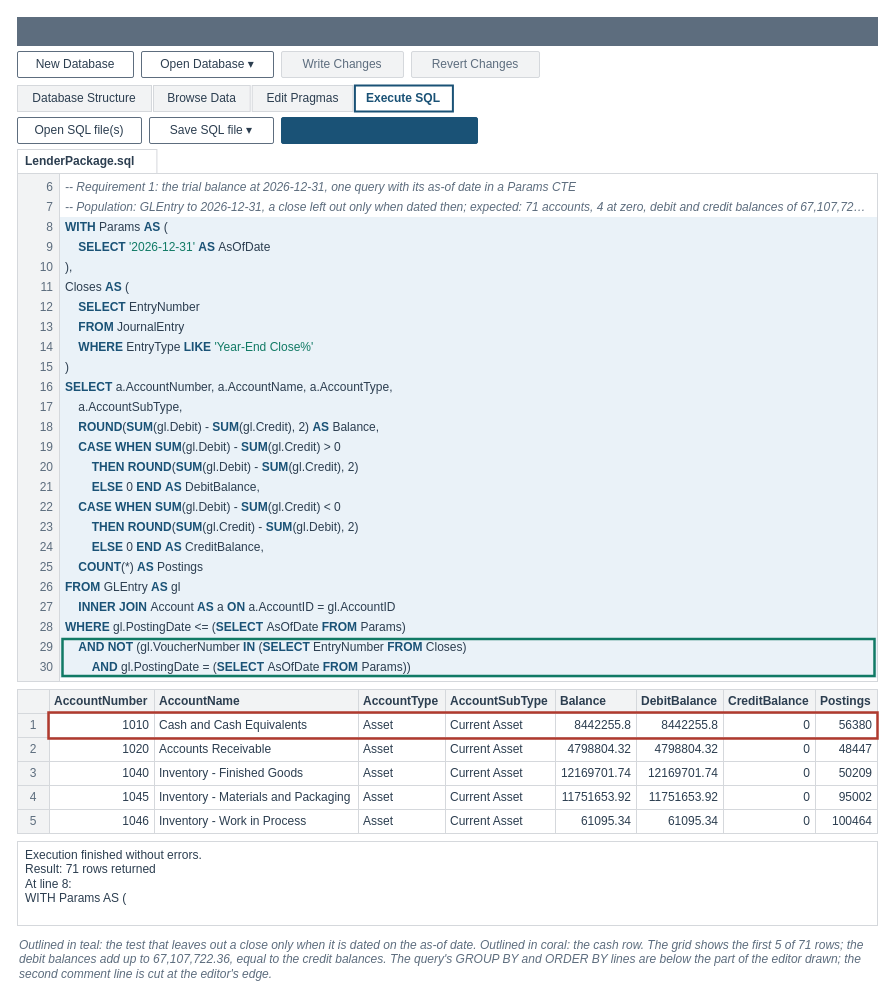
Some shapes in this 896 by 1004 pixel diagram are drawn without their labels. The shapes that lost their labels are listed below. From the top down, each one's box as (x1, y1, x2, y2) in pixels, then its label:
(16, 16, 878, 46): DB Browser for SQLite - C:\Users\you\Documents\CharlesRiver_Capstone.sqlite
(280, 116, 478, 144): ▶ Execute all/selected SQL
